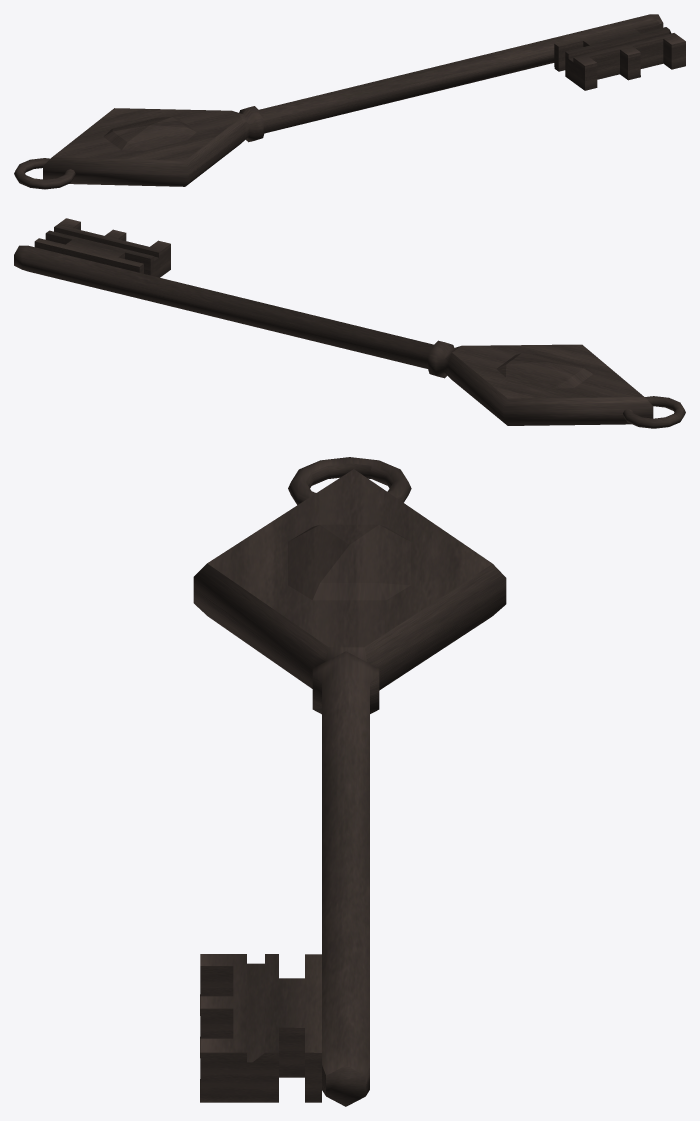
Rendered from key6.FBX.
3 renders of one model, top to bottom at view 1: azimuth 30°, elevation 25°; view 2: azimuth 150°, elevation 25°; view 3: azimuth 270°, elevation 25°, orthographic. The views are drawn at different scales.
Parts seen in each view (by area): view 1: Object002; view 2: Object002; view 3: Object002.
Part boxes in pixels (<box>): Object002: <box>14,14,685,189</box>; Object002: <box>14,218,685,428</box>; Object002: <box>193,457,506,1106</box>.
Bounding box in the file's own units: 85.92 × 6 × 18.17.
1 material, 1 textured.
